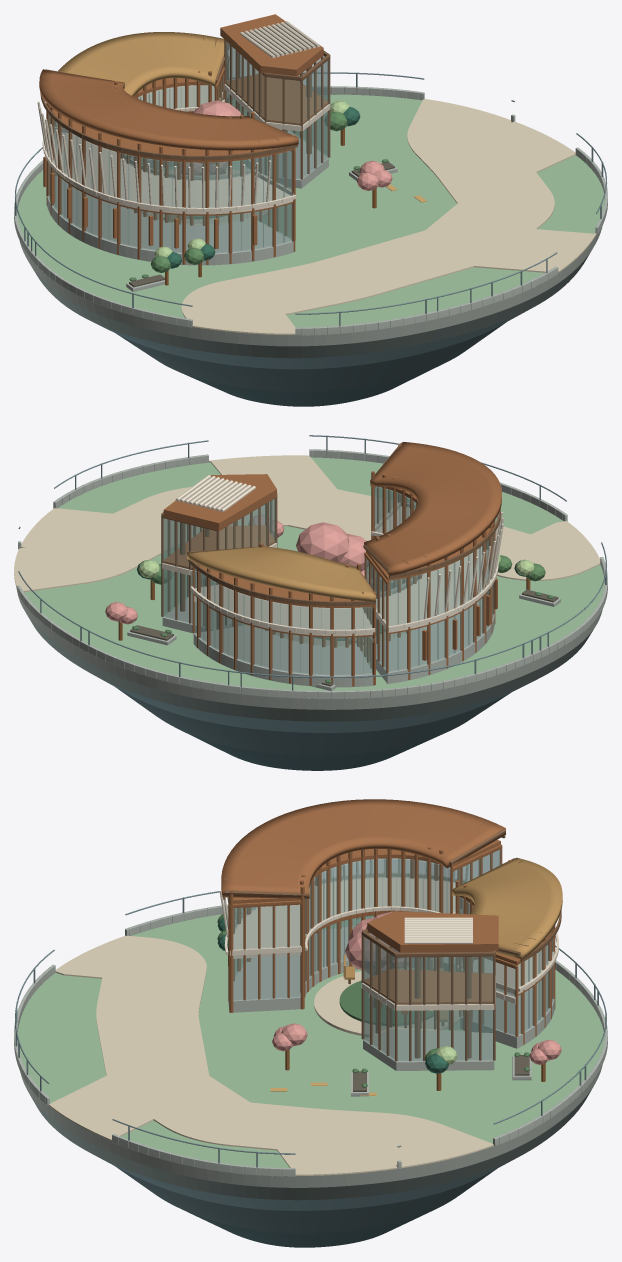
3 views of the same model, one above another, from view 1: azimuth 30°, elevation 25°; view 2: azimuth 150°, elevation 25°; view 3: azimuth 270°, elevation 25° (orthographic). The views are drawn at different scales.
Parts seen in each view (by area): view 1: ROLE_terrain_Components__grass, ROLE_paving_Components__paveLight, ROLE_building_Components__careGlass, ROLE_building_Components__careRoof, ROLE_building_Components__careLinen, ROLE_roof_Components__careRoof, ROLE_building_Components__stone2, ROLE_roof_Components__warmwood, ROLE_terrain_Components__cliff2, ROLE_terrain_Components__stone2, ROLE_terrain_Components__cliff3, ROLE_rails_Components__stone2 (+8 smaller); view 2: ROLE_terrain_Components__grass, ROLE_building_Components__careGlass, ROLE_paving_Components__paveLight, ROLE_building_Components__careRoof, ROLE_roof_Components__careRoof, ROLE_building_Components__careLinen, ROLE_building_Components__stone2, ROLE_rails_Components__stone2, ROLE_terrain_Components__cliff2, ROLE_terrain_Components__cliff3, ROLE_terrain_Components__stone2, ROLE_roof_Components__warmwood (+10 smaller); view 3: ROLE_terrain_Components__grass, ROLE_paving_Components__paveLight, ROLE_building_Components__careGlass, ROLE_roof_Components__careRoof, ROLE_building_Components__careRoof, ROLE_building_Components__careLinen, ROLE_building_Components__stone2, ROLE_terrain_Components__stone2, ROLE_roof_Components__warmwood, ROLE_terrain_Components__cliff3, ROLE_terrain_Components__cliff2, ROLE_building_Components__copperdark (+7 smaller).
Part boxes in pixels (<box>): ROLE_terrain_Components__grass: <box>17,94,604,327</box>; ROLE_paving_Components__paveLight: <box>132,99,596,334</box>; ROLE_building_Components__careGlass: <box>48,40,328,253</box>; ROLE_building_Components__careRoof: <box>43,53,328,264</box>; ROLE_building_Components__careLinen: <box>37,21,330,214</box>; ROLE_roof_Components__careRoof: <box>39,14,323,150</box>; ROLE_building_Components__stone2: <box>47,129,328,265</box>; ROLE_roof_Components__warmwood: <box>58,32,227,96</box>; ROLE_terrain_Components__cliff2: <box>117,322,505,391</box>; ROLE_terrain_Components__stone2: <box>19,226,602,346</box>; ROLE_terrain_Components__cliff3: <box>31,252,590,358</box>; ROLE_rails_Components__stone2: <box>14,86,607,335</box>; ROLE_terrain_Components__grass: <box>24,457,604,690</box>; ROLE_building_Components__careGlass: <box>163,486,493,675</box>; ROLE_paving_Components__paveLight: <box>14,455,600,651</box>; ROLE_building_Components__careRoof: <box>163,444,497,686</box>; ROLE_roof_Components__careRoof: <box>163,442,501,576</box>; ROLE_building_Components__careLinen: <box>162,475,503,642</box>; ROLE_building_Components__stone2: <box>162,577,494,687</box>; ROLE_rails_Components__stone2: <box>17,449,607,698</box>; ROLE_terrain_Components__cliff2: <box>115,687,510,755</box>; ROLE_terrain_Components__cliff3: <box>26,614,593,721</box>; ROLE_terrain_Components__stone2: <box>16,586,602,709</box>; ROLE_roof_Components__warmwood: <box>187,546,375,601</box>; ROLE_terrain_Components__grass: <box>17,914,604,1167</box>; ROLE_paving_Components__paveLight: <box>48,935,493,1175</box>; ROLE_building_Components__careGlass: <box>233,849,553,1061</box>; ROLE_roof_Components__careRoof: <box>221,799,505,952</box>; ROLE_building_Components__careRoof: <box>228,840,555,1044</box>; ROLE_building_Components__careLinen: <box>219,858,558,1010</box>; ROLE_building_Components__stone2: <box>228,926,554,1070</box>; ROLE_terrain_Components__stone2: <box>20,1065,602,1187</box>; ROLE_roof_Components__warmwood: <box>452,857,562,959</box>; ROLE_terrain_Components__cliff3: <box>30,1086,593,1200</box>; ROLE_terrain_Components__cliff2: <box>115,1166,496,1233</box>; ROLE_building_Components__copperdark: <box>361,928,495,1061</box>.
Bounding box in the file's own units: 29.84 × 15.15 × 27.84.
